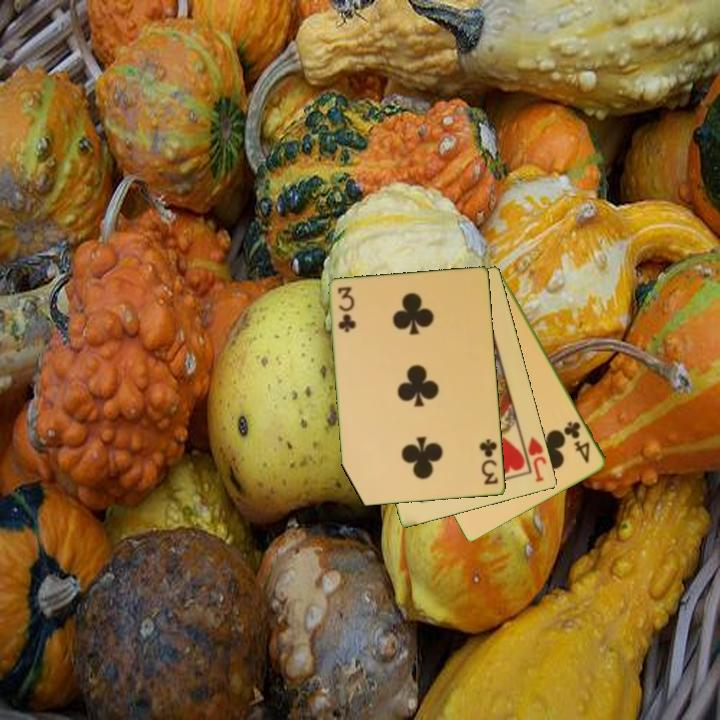3c: (476, 436, 501, 488), (335, 283, 357, 336)
4c: (561, 418, 593, 466)
Jh: (518, 431, 550, 485)
